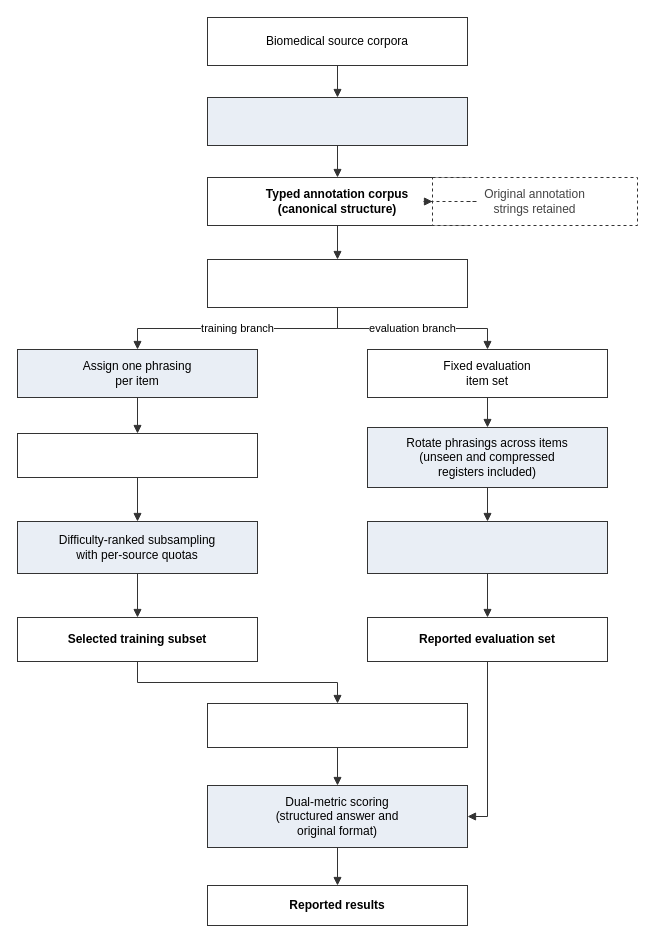
This 655x943 diagram has some shape labels left out. Here are the shapes that lost their labels. From the top down, the centre of each, then its label:
the point at 337,121: Annotation format detection
the point at 337,283: Instruction family bank (generated programmatically)
the point at 137,455: Multi-style training pool
the point at 487,547: Retain items whose evidence field is populated
the point at 337,725: Instruction-tuned model
